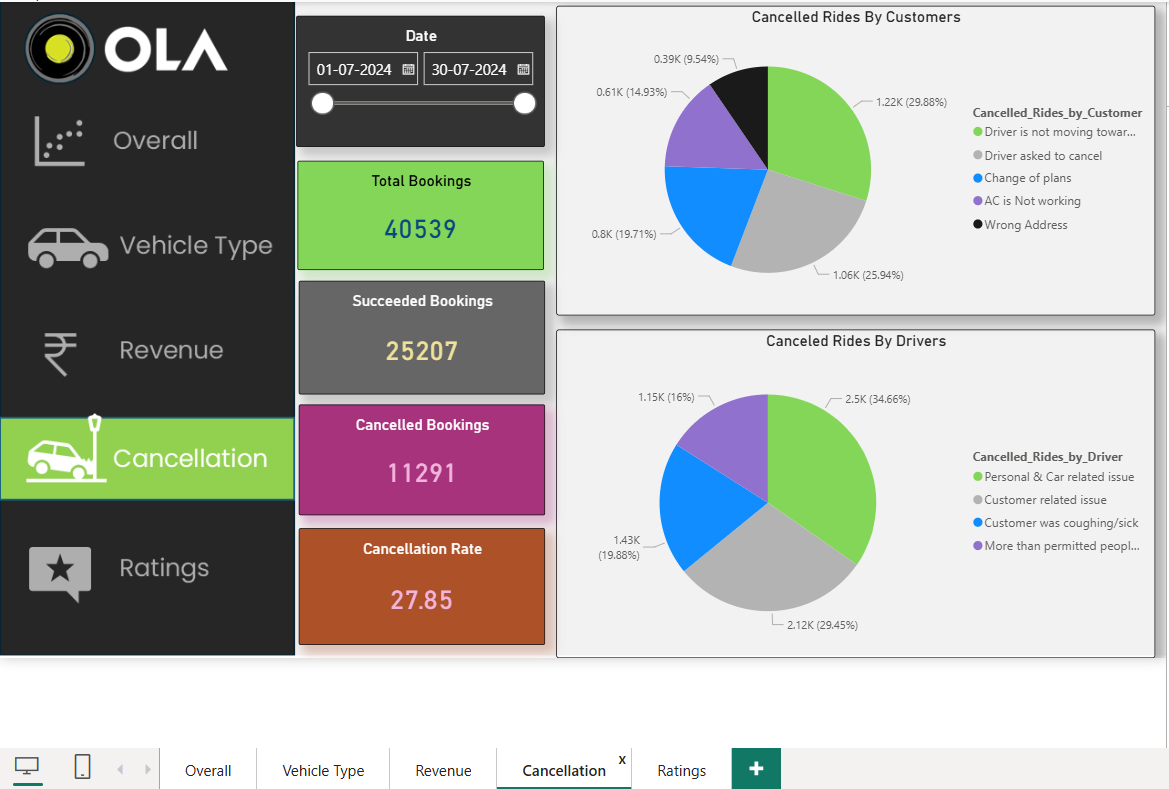

The dashboard page shown, as its layout file describes it:
{"tool":"powerbi","page":{"name":"Cancellation","canvas":[1280,720],"ordinal":3},"visuals":[{"type":"actionButton","box":[0,224.4,324.5,90.5],"z":0},{"type":"actionButton","box":[0,345,324.5,85.7],"z":1000},{"type":"actionButton","box":[0,442.8,324.5,107.4],"z":2000},{"type":"actionButton","box":[1.2,577.9,324.5,101.3],"z":3000},{"type":"actionButton","box":[0,108.6,324.5,102.5],"z":4000},{"type":"pieChart","title":"Cancelled Rides By Customers","fields":{"Y":["CountNonNull(July.Booking_Status)"],"Category":["July.Canceled_Rides_by_Customer"]},"box":[610.6,4.1,657.3,340.3],"z":5000},{"type":"pieChart","title":"Canceled Rides By Drivers","fields":{"Y":["CountNonNull(July.Booking_Status)"],"Category":["July.Canceled_Rides_by_Driver"]},"box":[610.6,359.5,657.3,360.9],"z":6000},{"type":"slicer","title":"Date","fields":{"Values":["July.Date"]},"box":[325.2,15.1,273.1,144.1],"z":7000},{"type":"card","title":"Total Bookings","fields":{"Values":["Count(July.Booking_ID)"]},"box":[326.9,174.9,270.7,120.1],"z":8000},{"type":"card","title":"Succeeded Bookings","fields":{"Values":["Count(July.Booking_ID)"]},"box":[328.4,305.6,270.7,124.7],"z":9000},{"type":"card","title":"Cancelled Bookings","fields":{"Values":["Count(July.Booking_ID)"]},"box":[328.4,442.5,270.7,121.6],"z":10000},{"type":"card","title":"Cancellation Rate","fields":{"Values":["July.CanceledPercentage"]},"box":[328.4,577.8,270.7,127.7],"z":11000}]}

Visuals, with their boxes on the page's 1280x720 design canvas (x1, y1, x2, y2). These are canvas units, not pixel positions in the 1169x789 screenshot, which may show the page scaled, cropped or inside an application window:
actionButton: select_region(0, 224, 324, 315)
actionButton: select_region(0, 345, 324, 431)
actionButton: select_region(0, 443, 324, 550)
actionButton: select_region(1, 578, 326, 679)
actionButton: select_region(0, 109, 324, 211)
"Cancelled Rides By Customers" pieChart: select_region(611, 4, 1268, 344)
"Canceled Rides By Drivers" pieChart: select_region(611, 360, 1268, 720)
"Date" slicer: select_region(325, 15, 598, 159)
"Total Bookings" card: select_region(327, 175, 598, 295)
"Succeeded Bookings" card: select_region(328, 306, 599, 430)
"Cancelled Bookings" card: select_region(328, 442, 599, 564)
"Cancellation Rate" card: select_region(328, 578, 599, 706)
